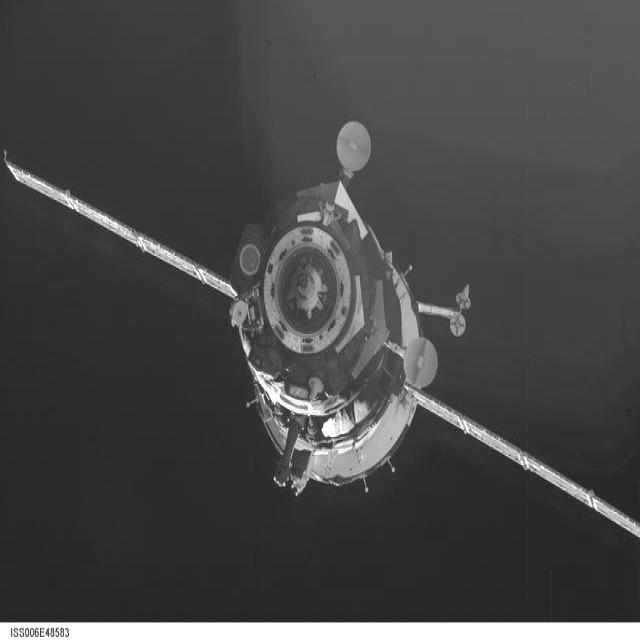satellite: (5, 121, 640, 536)
